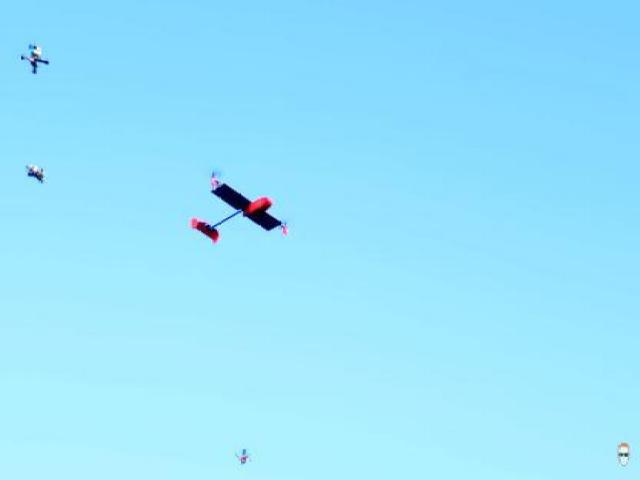uav: (176, 165, 296, 252)
